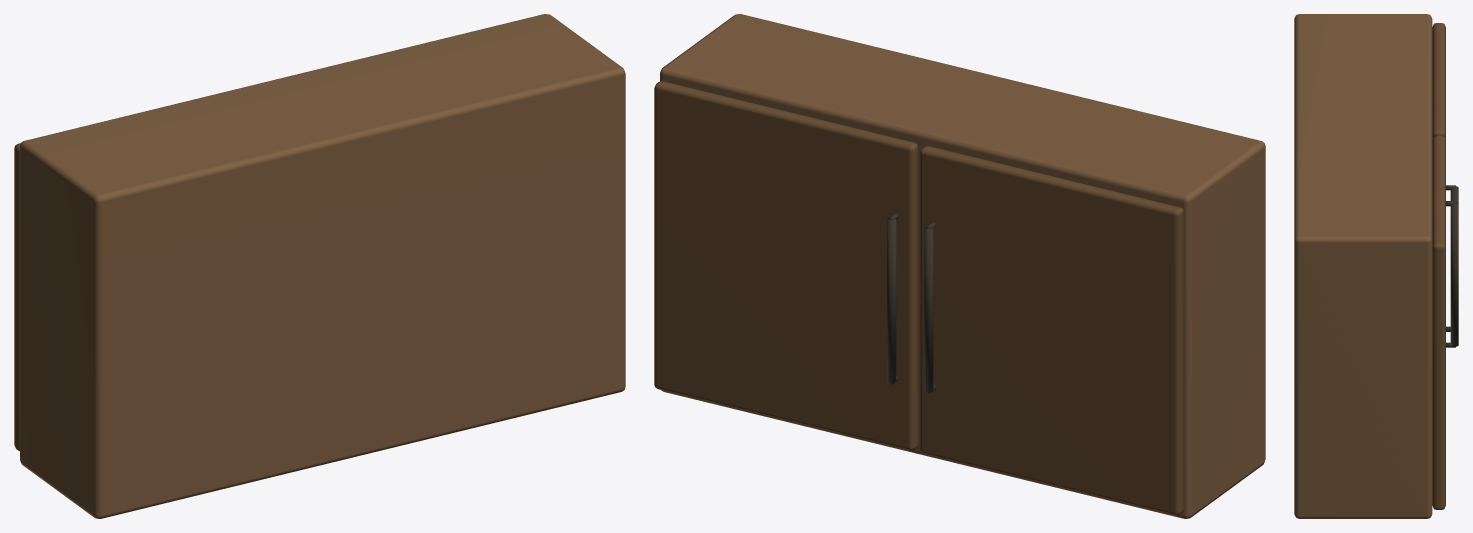
Rendered from upper_cabinet.glb.
The picture shows the model from 3 angles, left to right: view 1: azimuth 30°, elevation 25°; view 2: azimuth 150°, elevation 25°; view 3: azimuth 270°, elevation 25°; orthographic projection. The views are drawn at different scales.
Parts seen in each view (by area): view 1: body; view 2: body; view 3: body.
Part boxes in pixels (left/top/right/bottom): body: left=14, top=14, right=625, bottom=518; body: left=654, top=14, right=1265, bottom=518; body: left=1294, top=14, right=1458, bottom=518.
Size of the model in its own units: 1.2 by 0.7 by 0.369.
